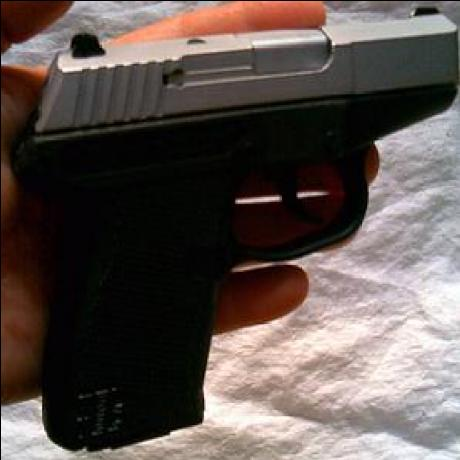weapon: (24, 8, 456, 440)
